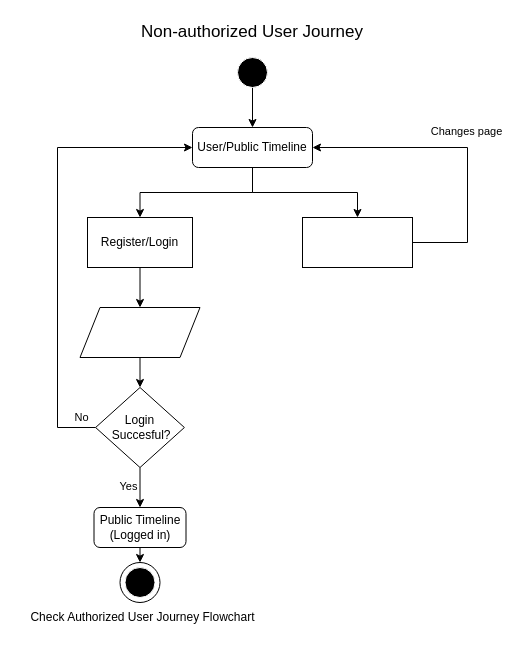
This 519x649 diagram has some shape labels left out. Each missing label, with the centre of its shape:
Change Page: [357,242]
User info: [139,332]
